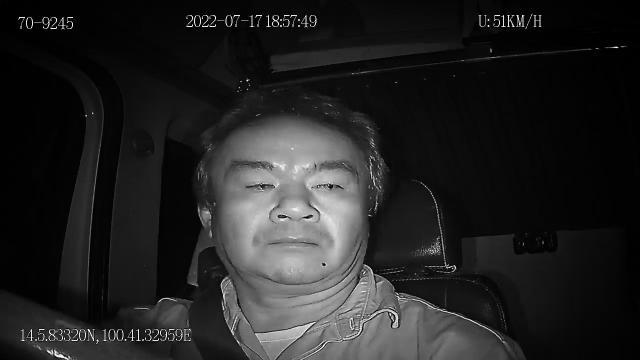SafeDriving: (232, 167, 284, 198), (304, 168, 354, 199)
Seatbelt: (186, 290, 254, 360)
